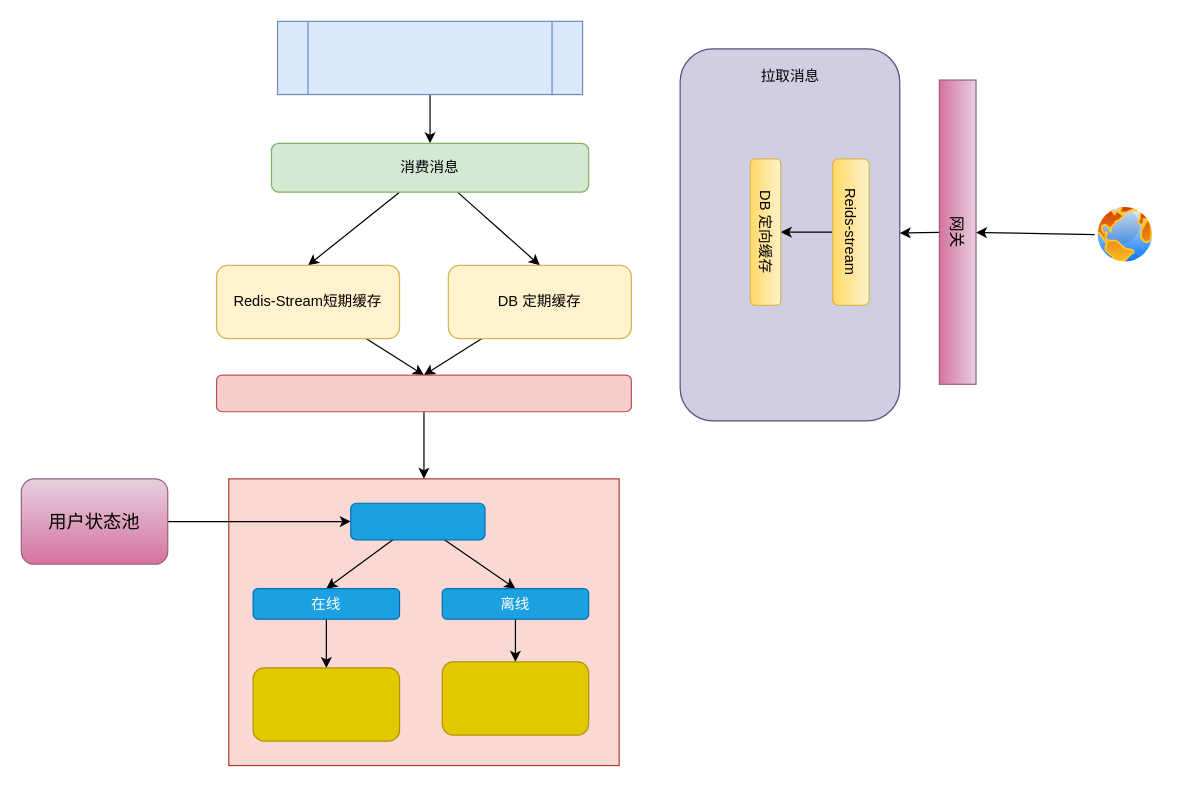
This 1177x787 diagram has some shape labels left out. The shapes that lost their labels are listed below. From the top down, each one's centre as x and y in pixels, then its label:
At (x=429, y=57): "MQ 消息队列组件".
At (x=423, y=393): "推送系统".
At (x=417, y=521): "获取用户状态".
At (x=326, y=704): "Websocket推送".
At (x=515, y=698): "第三方平台推送".
